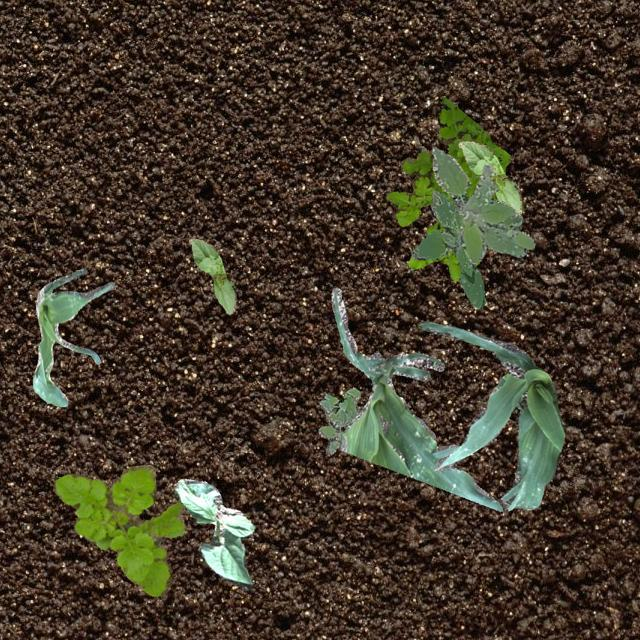crop: (330, 286, 502, 510), (417, 320, 565, 510), (32, 268, 114, 406), (172, 478, 254, 588), (458, 140, 520, 212), (188, 236, 235, 314)
weed: (386, 96, 524, 280), (52, 464, 184, 596), (431, 146, 534, 262), (410, 188, 484, 308), (318, 388, 360, 452)
